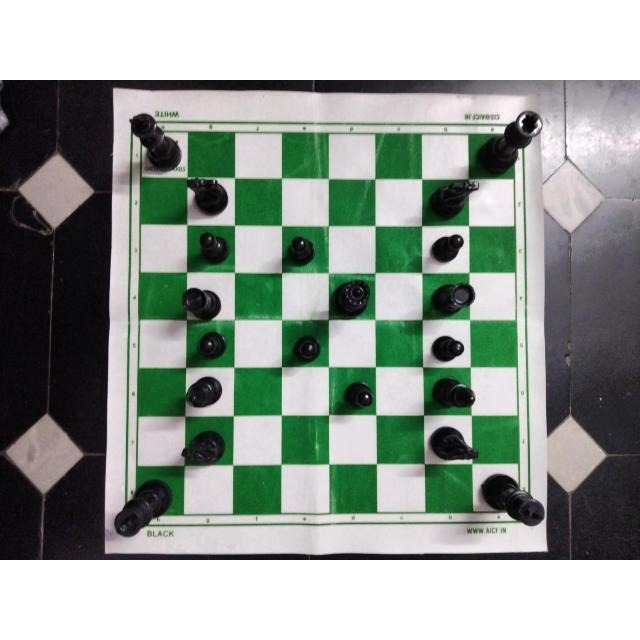black-bishop: (428, 372, 478, 412), (182, 373, 228, 411)
black-king: (476, 109, 542, 179), (111, 475, 177, 544), (126, 109, 186, 174), (477, 474, 547, 529)
black-knight: (426, 179, 483, 225), (429, 424, 487, 464), (172, 425, 228, 465), (182, 174, 230, 216)
black-pawn: (424, 330, 471, 364), (428, 230, 471, 266), (338, 377, 377, 413), (194, 227, 232, 263), (284, 232, 320, 268), (192, 330, 231, 362), (291, 332, 323, 364)
black-queen: (328, 273, 374, 322)
black-rook: (424, 276, 480, 318), (175, 284, 227, 322)
